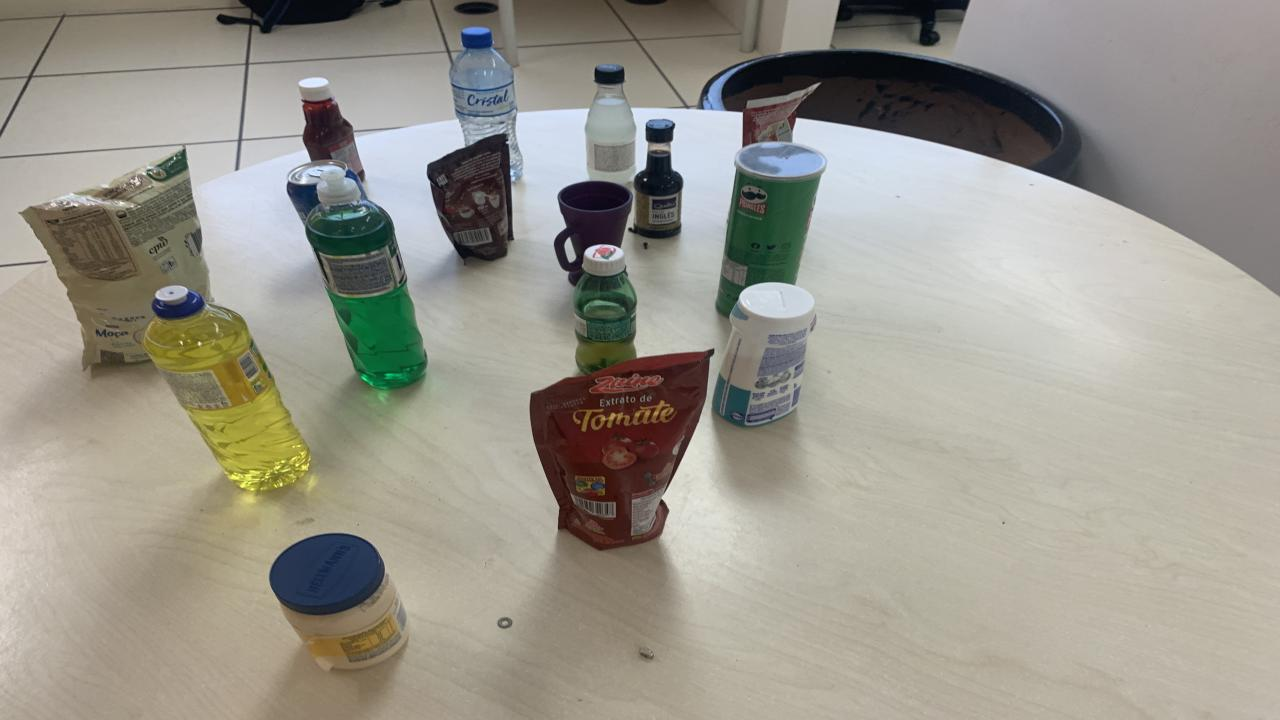Cleaner-Cleanup_Items: (712, 283, 815, 428)
Coffee-Pantry_Items: (428, 135, 512, 261)
Detergent-Cleanup_Items: (142, 285, 310, 489), (305, 171, 428, 388)
English_Sauce-Pantry_Items: (630, 120, 682, 238)
Flakes-Snacks: (22, 150, 210, 368)
Guarana-Drinks: (572, 244, 638, 375)
Ketchup-Pantry_Items: (300, 77, 365, 180)
Mayonnaise-Pantry_Items: (270, 532, 408, 669)
Pringles-Snacks: (715, 142, 828, 315)
Soda-Drinks: (585, 64, 635, 188)
Tomato_Sauce-Pantry_Items: (530, 351, 712, 549), (742, 82, 820, 146)
Tonic-Drinks: (288, 159, 365, 221)
Water_Bottle-Drinks: (450, 26, 522, 180)
